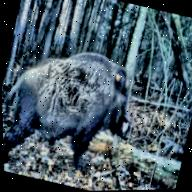boar: (1, 33, 150, 192)
